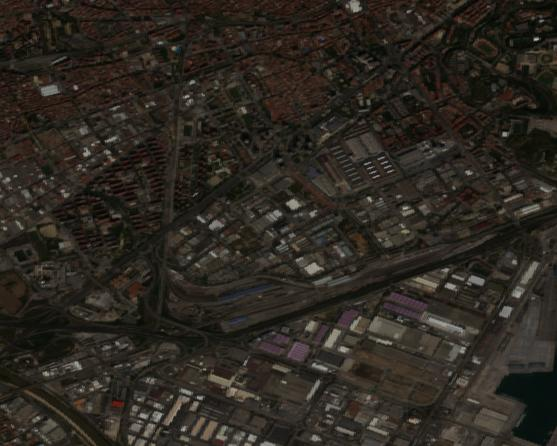Industria: (135, 135, 557, 341), (1, 318, 557, 446)
Poblacion: (1, 1, 543, 158), (1, 121, 165, 323)
